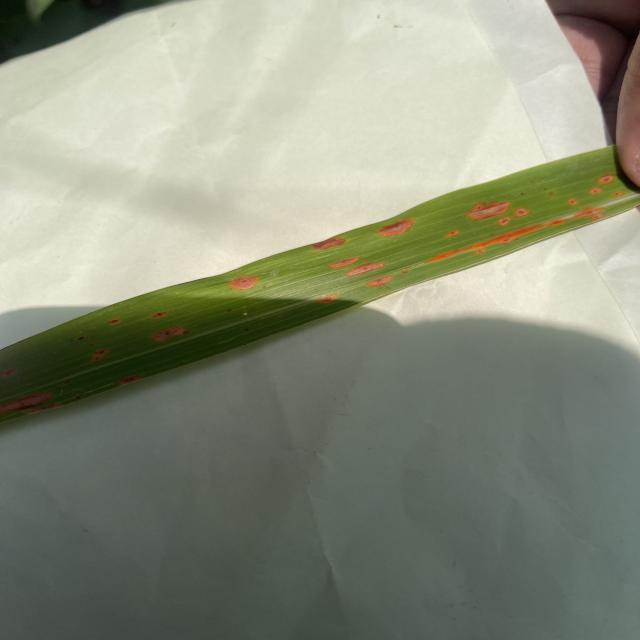millet_rust: (0, 148, 618, 424)
